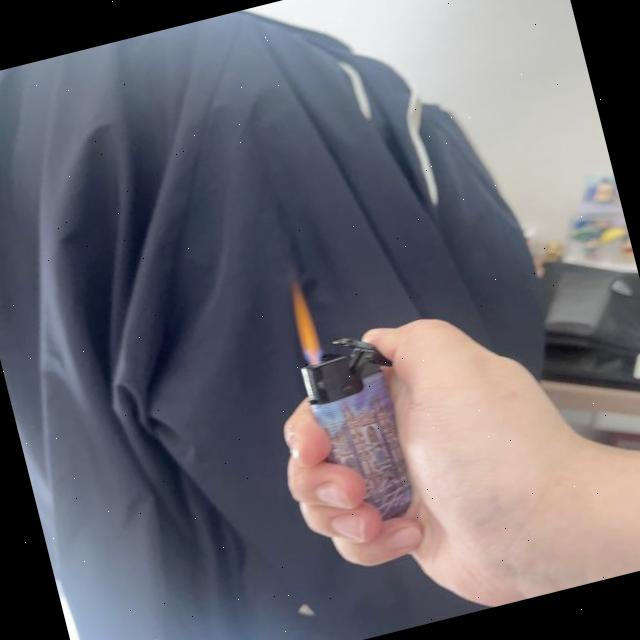fire: (284, 279, 328, 371)
